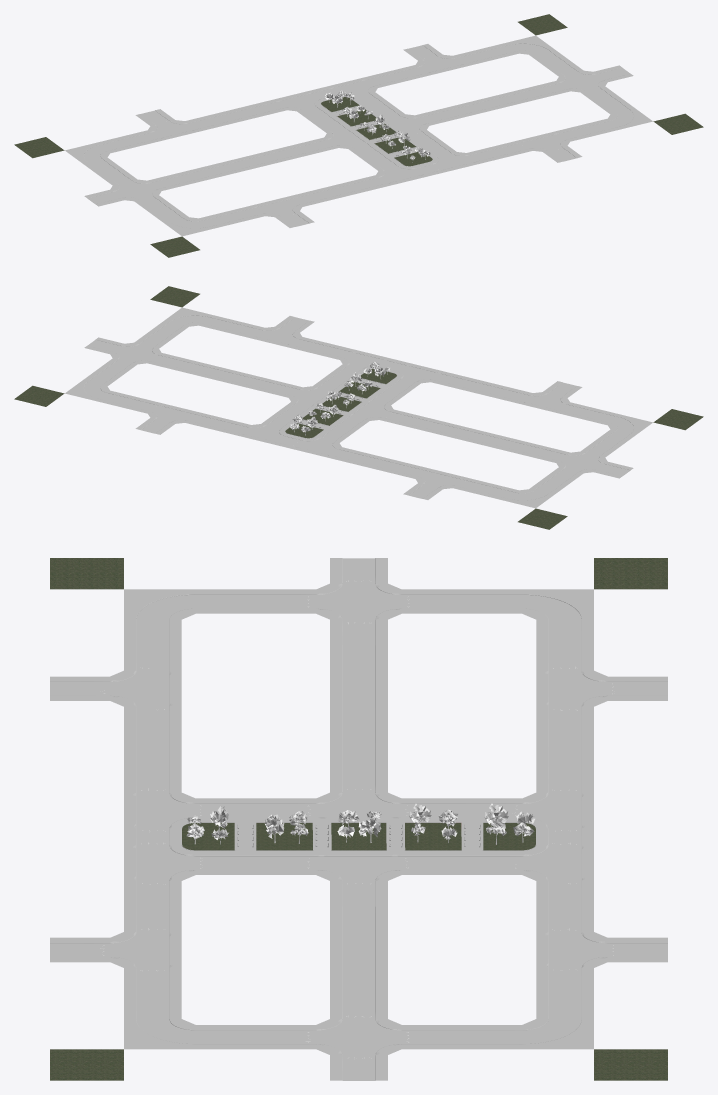
File: Double-Block-05.fbx
3 views of the same model, one above another, from view 1: azimuth 30°, elevation 25°; view 2: azimuth 150°, elevation 25°; view 3: azimuth 270°, elevation 25° (orthographic). The views are drawn at different scales.
Visible parts, largest first — view 1: Double-Block-05-B, Double-Block-05, Double-Block-05-C, Double-Block-05-Sidewalk-B, Double-Block-05-Sidewalk-C, Double-Block-05-Sidewalk, Trees; view 2: Double-Block-05-B, Double-Block-05, Double-Block-05-C, Double-Block-05-Sidewalk-B, Double-Block-05-Sidewalk, Double-Block-05-Sidewalk-C, Trees; view 3: Double-Block-05-B, Double-Block-05, Double-Block-05-C, Double-Block-05-Sidewalk-B, Double-Block-05-Sidewalk, Double-Block-05-Sidewalk-C, Trees.
Part boxes in pixels (<box>): Double-Block-05-B: <box>232,73,503,194</box>; Double-Block-05: <box>14,110,342,257</box>; Double-Block-05-C: <box>393,14,703,161</box>; Double-Block-05-Sidewalk-B: <box>193,67,524,204</box>; Double-Block-05-Sidewalk-C: <box>403,35,652,162</box>; Double-Block-05-Sidewalk: <box>65,109,314,236</box>; Trees: <box>325,90,430,162</box>; Double-Block-05-B: <box>214,345,485,466</box>; Double-Block-05: <box>375,382,703,529</box>; Double-Block-05-C: <box>14,286,324,433</box>; Double-Block-05-Sidewalk-B: <box>193,339,524,476</box>; Double-Block-05-Sidewalk: <box>403,381,652,508</box>; Double-Block-05-Sidewalk-C: <box>65,307,314,434</box>; Trees: <box>289,362,390,435</box>; Double-Block-05-B: <box>135,749,582,906</box>; Double-Block-05: <box>50,558,667,749</box>; Double-Block-05-C: <box>50,906,667,1080</box>; Double-Block-05-Sidewalk-B: <box>124,715,593,923</box>; Double-Block-05-Sidewalk: <box>50,558,667,714</box>; Double-Block-05-Sidewalk-C: <box>50,924,667,1080</box>; Trees: <box>186,803,534,844</box>.
Size of what is drawn, in the model's own units: 600 by 14.25 by 300.
